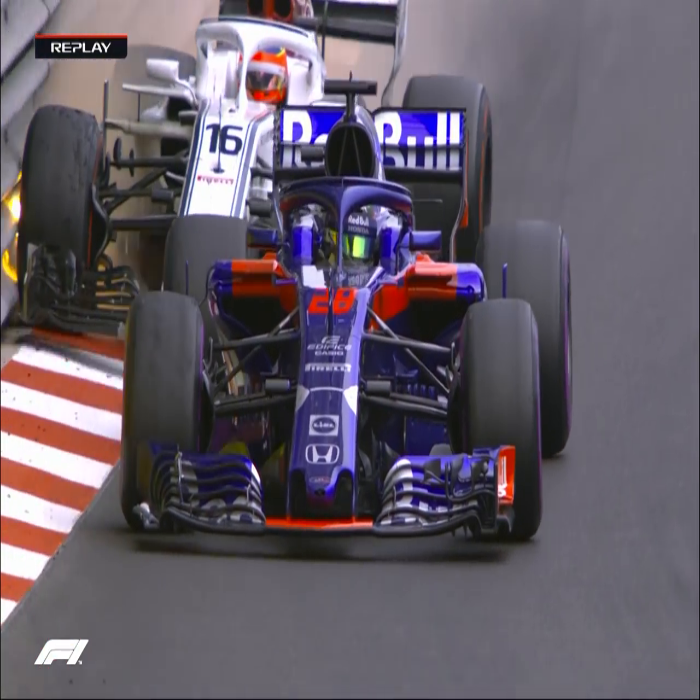f1_car: (125, 92, 579, 553)
